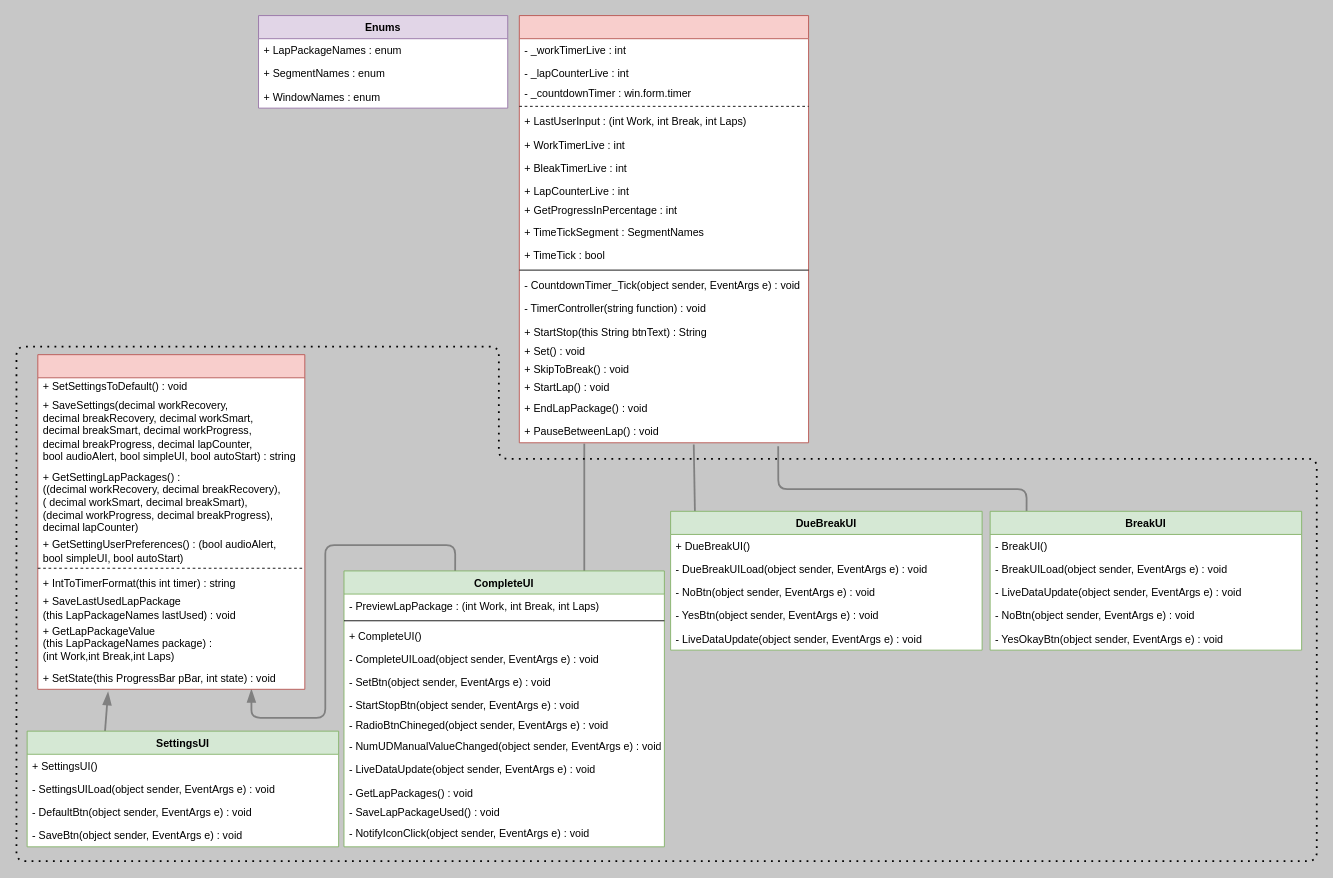
Image size: 1333x878. Some labels were removed from this diagram. Here are the shapes that lost their labels. From the top down, the box of each, then its label:
(518, 15, 809, 443): Countdown : Static
(37, 354, 305, 689): GetSetSettingsData : Static
